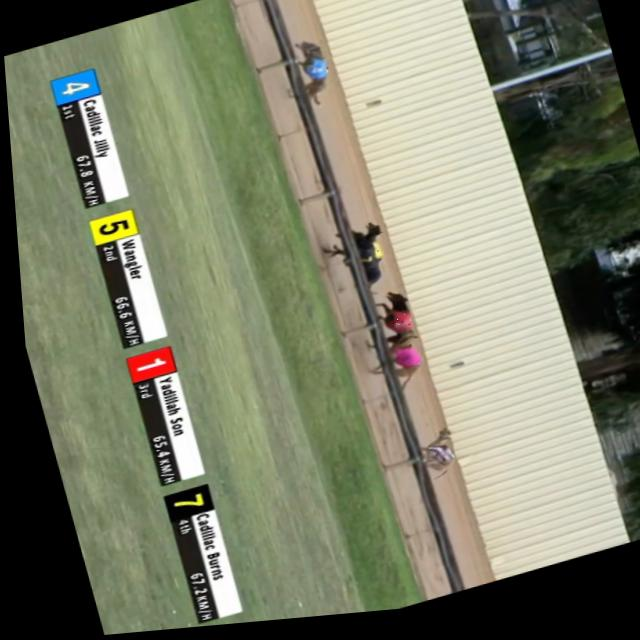dog_eight: (385, 356, 413, 375)
dog_five: (358, 244, 380, 269)
dog_four: (295, 65, 328, 89)
dog_one: (378, 317, 407, 339)
dog_seven: (344, 256, 372, 280)
dog_two: (420, 453, 445, 475)
rail: (257, 0, 456, 602)
